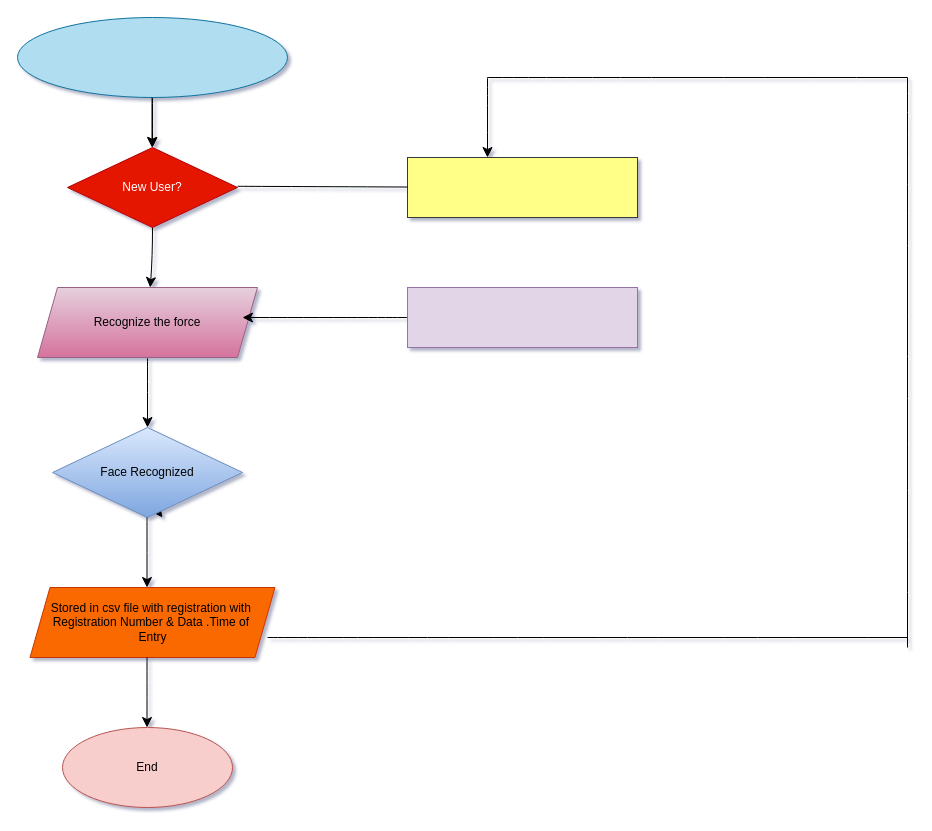
The diagram is 932 pixels wide and 831 high, and some of its shapes have lost their labels. The shapes that lost their labels are listed below. From the top down, each one's centre as x and y in pixels, then its label:
(152,57): Start
(522,187): Give your photograph
(522,317): Store the face data in folder on your name
